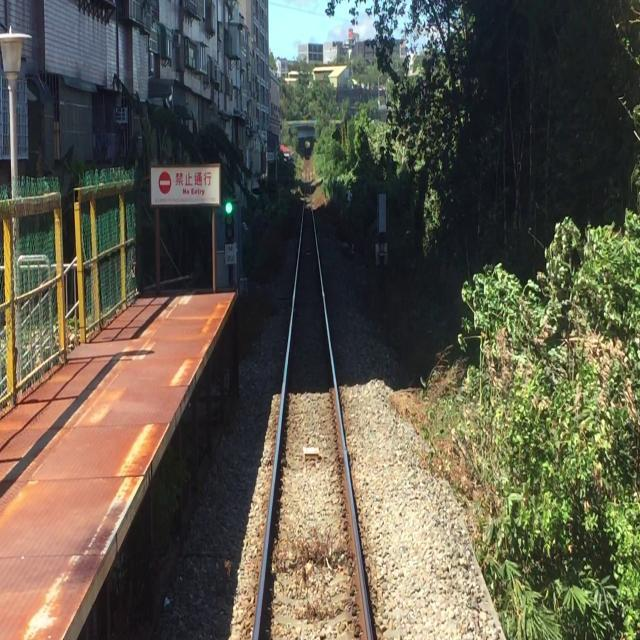track: (245, 190, 385, 640)
